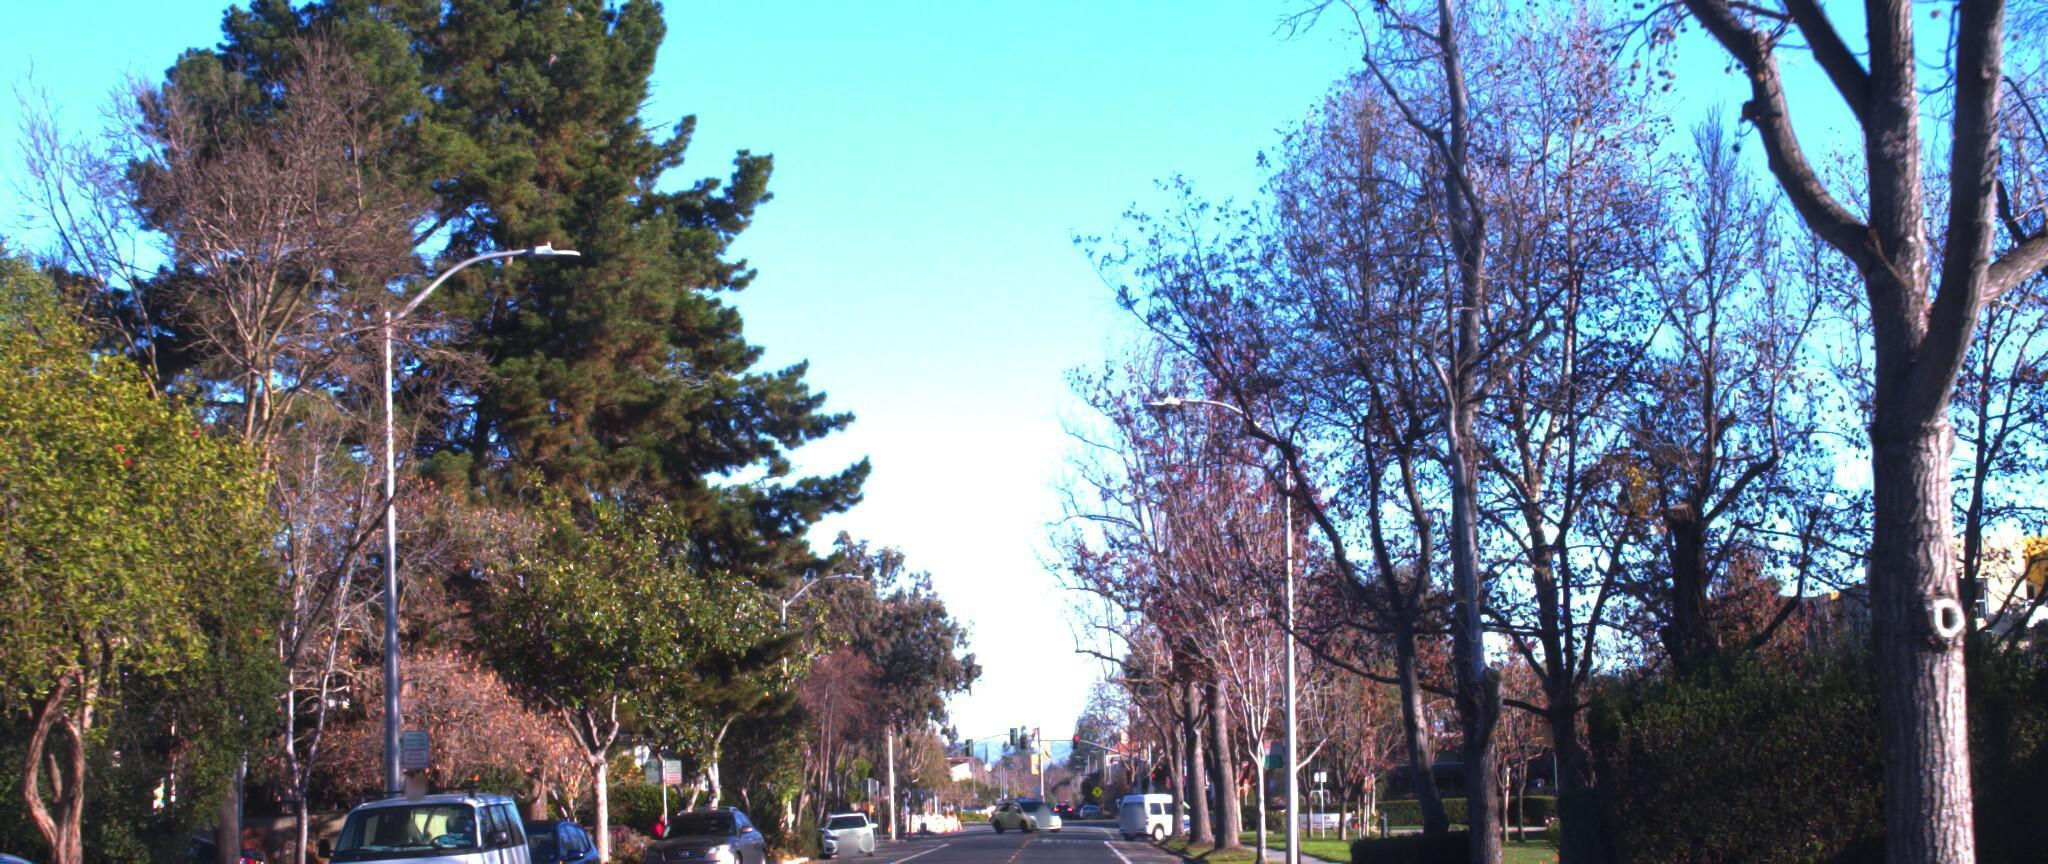car: (299, 760, 546, 864), (415, 790, 618, 864), (637, 782, 776, 864), (0, 831, 165, 864)
